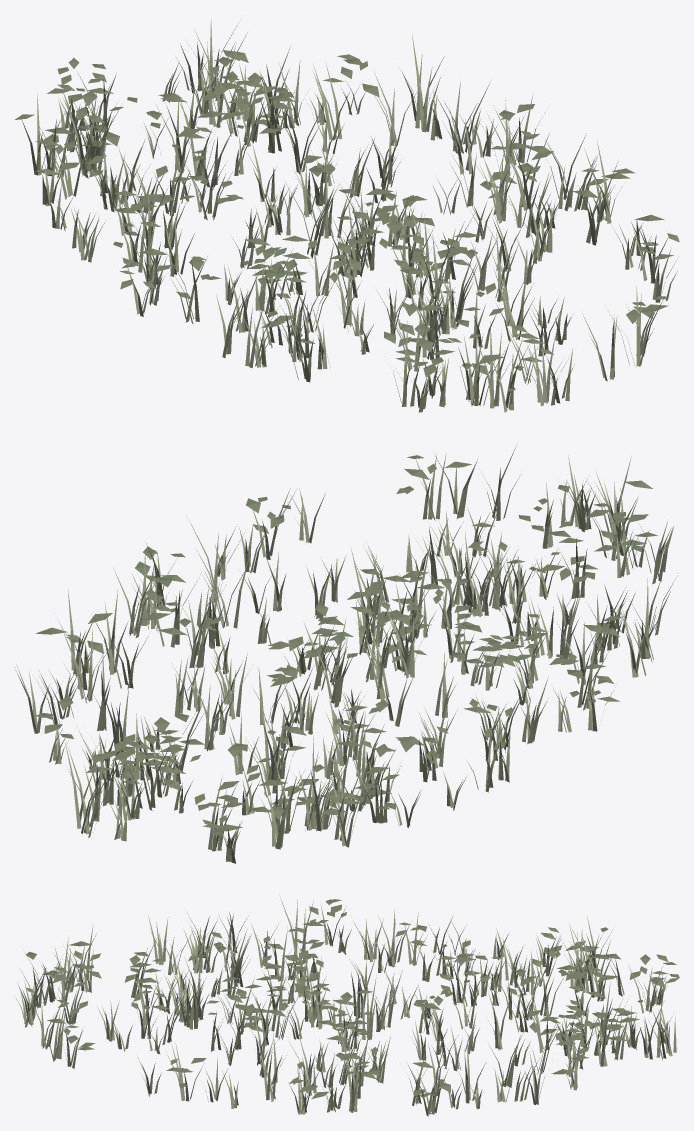
Rendered from AE_Encroachment_13.fbx.
3 renders of one model, top to bottom at view 1: azimuth 30°, elevation 25°; view 2: azimuth 150°, elevation 25°; view 3: azimuth 270°, elevation 25°, orthographic. The views are drawn at different scales.
Visible parts, largest first — view 1: AE_Encroachment_13_LOD0; view 2: AE_Encroachment_13_LOD0; view 3: AE_Encroachment_13_LOD0.
Part boxes in pixels (x1,y1,x2,y2): AE_Encroachment_13_LOD0: (15, 19, 679, 412); AE_Encroachment_13_LOD0: (15, 445, 678, 863); AE_Encroachment_13_LOD0: (15, 895, 679, 1116).
Size of what is drawn, in the model's own units: 658 by 115 by 1000.
